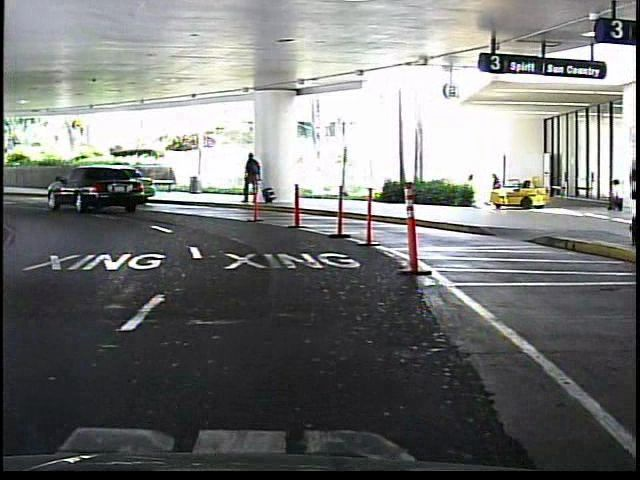person: (241, 151, 267, 210), (601, 174, 627, 213)
